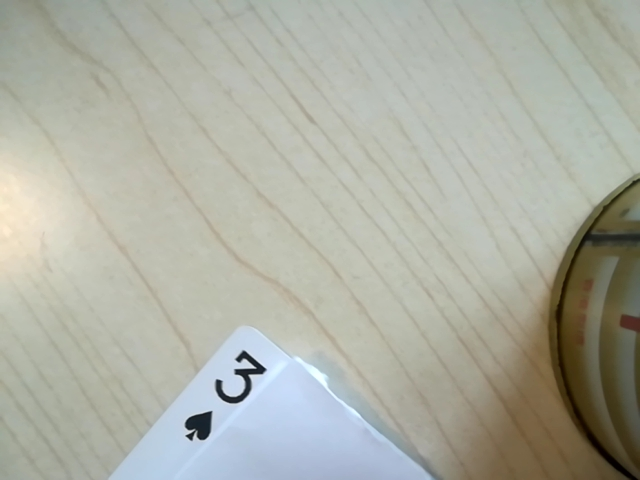ht 3: (172, 341, 277, 455)
